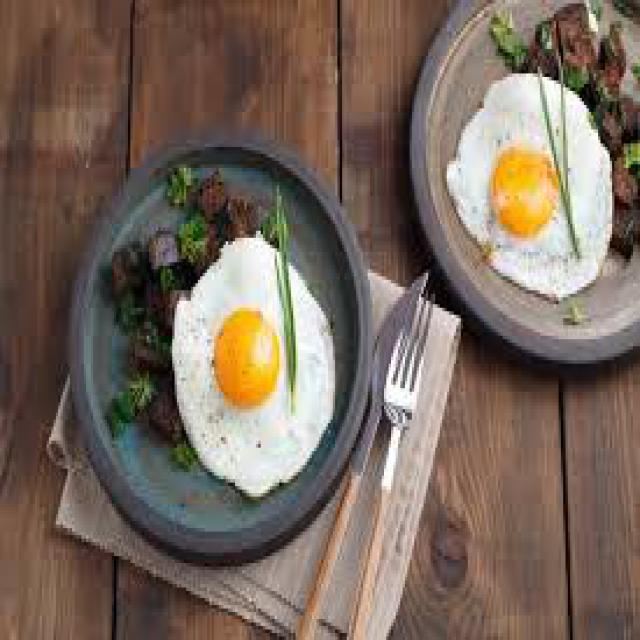Fried Egg: (180, 244, 336, 491), (453, 78, 608, 296)
